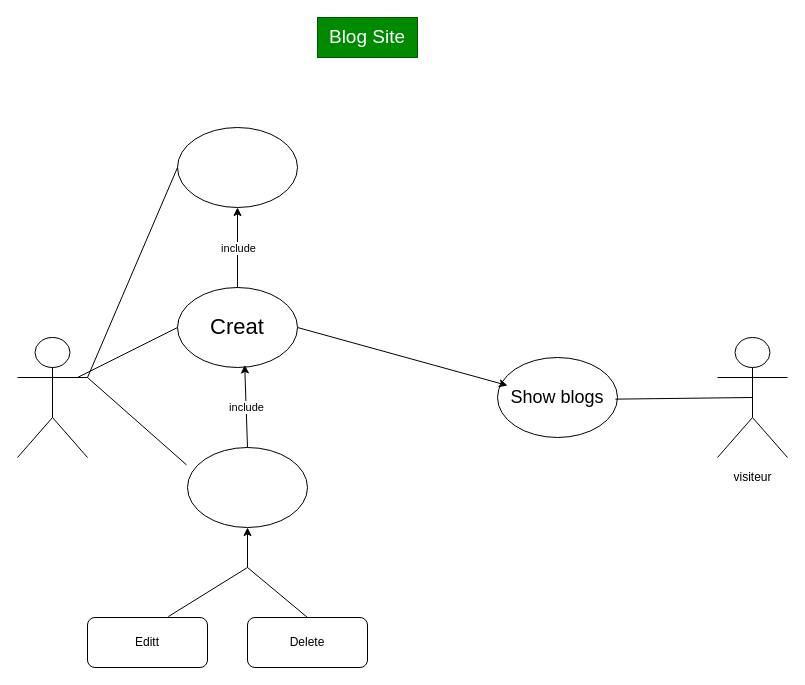
Some shapes in this 805 by 685 pixel diagram are drawn without their labels. The shapes that lost their labels are listed below. From the top down, each one's box as (x1, y1, x2, y2) in pixels, then its label:
(176, 126, 298, 208): Signin
(16, 336, 88, 458): blogger
(186, 446, 308, 528): show
